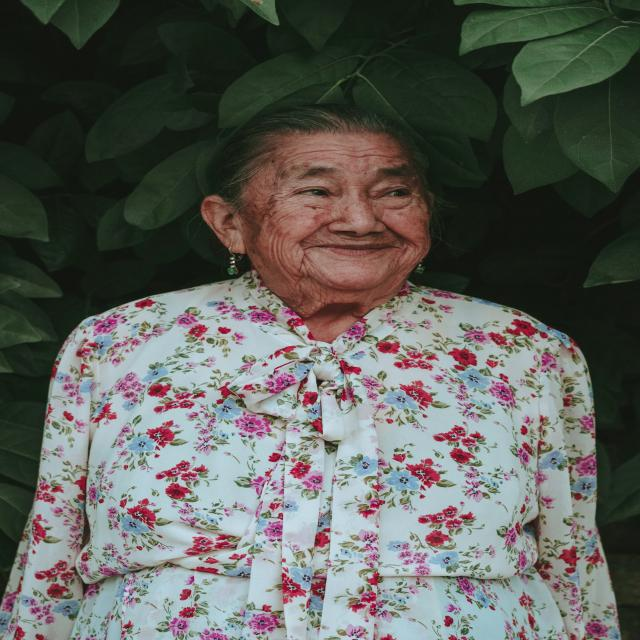adult: (0, 95, 605, 640)
